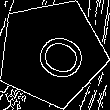O_NW: (19, 22, 84, 83)
